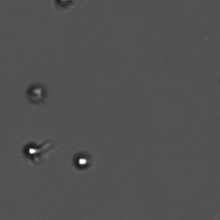Dead Cell: (23, 81, 53, 109)
Living Cell: (67, 144, 92, 173), (20, 139, 48, 162)
